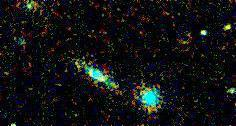star: (215, 11, 236, 41)
